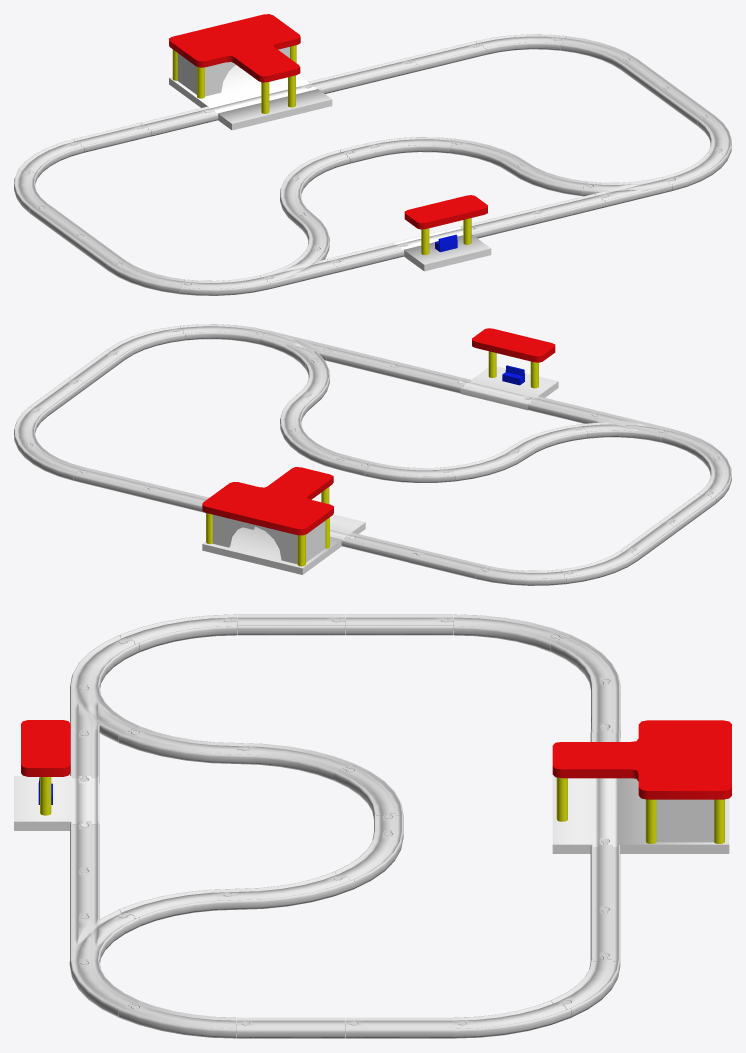
The model's file is CompleteTrack1.fbx.
The picture shows the model from 3 angles, top to bottom: view 1: azimuth 30°, elevation 25°; view 2: azimuth 150°, elevation 25°; view 3: azimuth 270°, elevation 25°; orthographic projection. The views are drawn at different scales.
Parts seen in each view (by area): view 1: Train_Station_Large_Parts_low.002, Train_Station_Large_low.002, Train_Station_Small_Parts_low.002, Train_Station_Small_low.002, Long_Straight_Track_low.004, Curved_Switching_Track_A_low.003, Curved_Switching_Track_B_low.001, Curved_Track_low.020, Train_Station_Large_Walls_low.002, Curved_Track_low.032, Curved_Track_low.027, Curved_Track_low.028 (+20 smaller); view 2: Train_Station_Large_Parts_low.002, Train_Station_Large_low.002, Train_Station_Small_Parts_low.002, Train_Station_Small_low.002, Train_Station_Large_Walls_low.002, Curved_Switching_Track_B_low.001, Curved_Switching_Track_A_low.003, Curved_Track_low.022, Curved_Track_low.025, Curved_Track_low.030, Curved_Track_low.024, Curved_Track_low.021 (+21 smaller); view 3: Train_Station_Large_Parts_low.002, Train_Station_Large_low.002, Train_Station_Small_low.002, Train_Station_Small_Parts_low.002, Curved_Track_low.026, Train_Station_Large_Walls_low.002, Curved_Track_low.031, Curved_Track_low.029, Curved_Track_low.023, Curved_Track_low.024, Curved_Track_low.021, Curved_Track_low.028 (+19 smaller).
Part boxes in pixels (x1,y1,x2,y2): Train_Station_Large_Parts_low.002: (169,14,300,113); Train_Station_Large_low.002: (169,65,332,130); Train_Station_Small_Parts_low.002: (404,195,487,255); Train_Station_Small_low.002: (394,226,491,271); Long_Straight_Track_low.004: (305,57,419,93); Curved_Switching_Track_A_low.003: (582,177,675,207); Curved_Switching_Track_B_low.001: (260,247,340,288); Curved_Track_low.020: (180,275,273,295); Train_Station_Large_Walls_low.002: (177,47,289,96); Curved_Track_low.032: (472,34,565,54); Curved_Track_low.027: (365,137,461,157); Curved_Track_low.028: (509,162,593,196); Train_Station_Large_Parts_low.002: (202,467,333,566); Train_Station_Large_low.002: (202,514,365,574); Train_Station_Small_Parts_low.002: (472,328,555,388); Train_Station_Small_low.002: (458,366,558,410); Train_Station_Large_Walls_low.002: (212,514,325,564); Curved_Switching_Track_B_low.001: (575,412,671,442); Curved_Switching_Track_A_low.003: (257,331,336,369); Curved_Track_low.022: (475,565,572,585); Curved_Track_low.025: (362,462,455,482); Curved_Track_low.030: (173,324,269,344); Curved_Track_low.024: (443,447,527,481); Curved_Track_low.021: (561,548,638,584); Train_Station_Large_Parts_low.002: (552,720,731,843); Train_Station_Large_low.002: (552,776,729,853); Train_Station_Small_low.002: (14,776,99,830); Train_Station_Small_Parts_low.002: (21,720,70,815); Curved_Track_low.026: (223,871,354,909); Train_Station_Large_Walls_low.002: (656,799,714,842); Curved_Track_low.031: (453,1000,571,1038); Curved_Track_low.029: (119,1000,249,1038); Curved_Track_low.023: (119,726,249,763); Curved_Track_low.024: (236,743,354,780); Curved_Track_low.021: (441,614,570,652); Curved_Track_low.028: (119,888,236,926).
Bounding box in the file's own units: 139 × 10 × 102.
